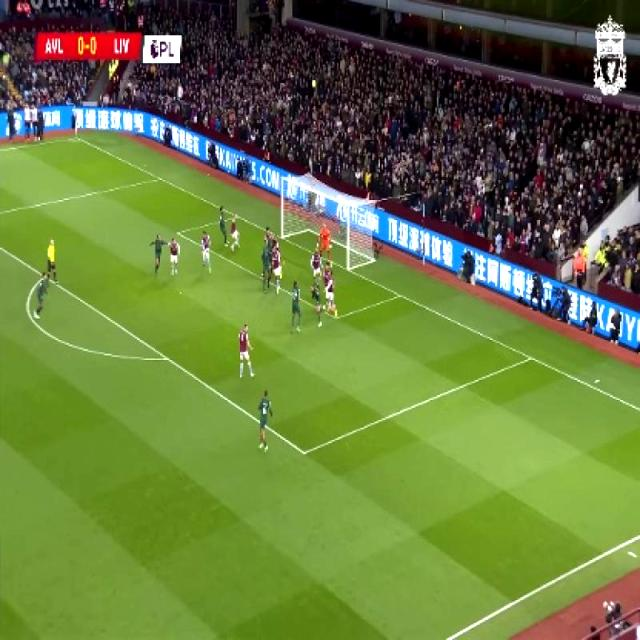bigarea_bottom_inner: (294, 437, 312, 465)
bigarea_bottom_outter: (522, 348, 538, 366)
bigarea_top_outter: (152, 170, 166, 184)
bottom_arc_area_intersection: (158, 346, 176, 368)
corner: (65, 130, 83, 145)
smallarea_bottom_inner: (328, 304, 344, 326)
smallarea_bottom_outter: (390, 285, 408, 303)
smallarea_top_inner: (170, 223, 184, 240)
smallarea_top_outter: (229, 206, 243, 224)
top_arc_area_intersection: (36, 266, 50, 282)
